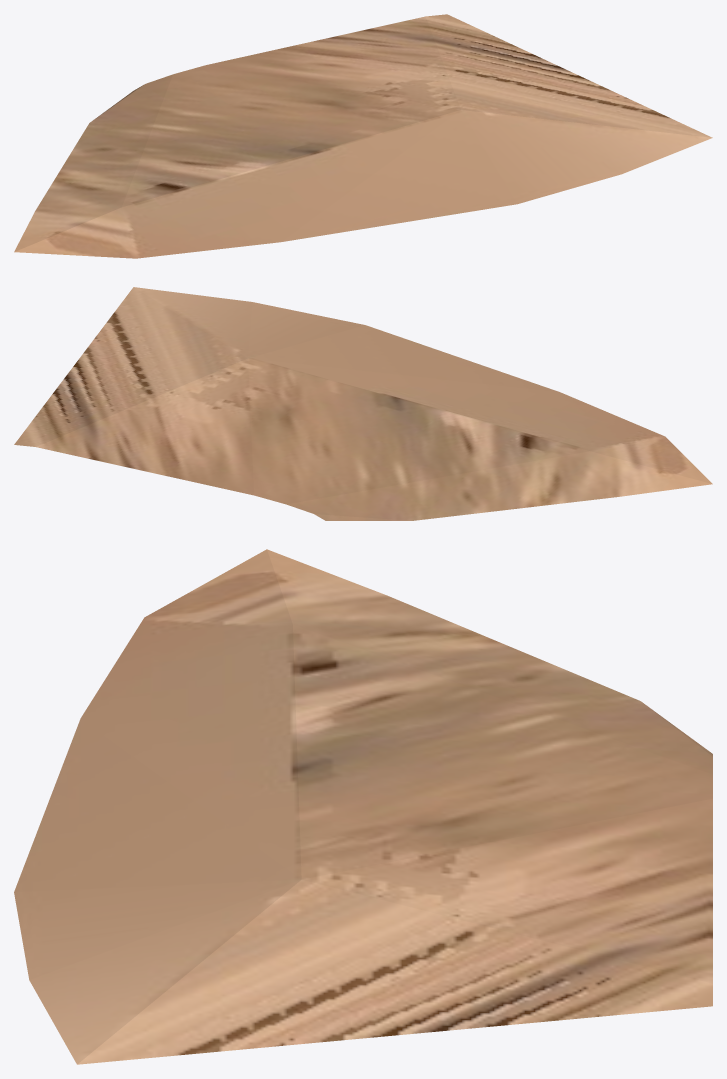
The picture shows the model from 3 angles, top to bottom: view 1: azimuth 30°, elevation 25°; view 2: azimuth 150°, elevation 25°; view 3: azimuth 270°, elevation 25°; orthographic projection. The views are drawn at different scales.
Size of the model in its own units: 0.5332 by 0.0181 by 0.3055.
1 material, 1 textured.
